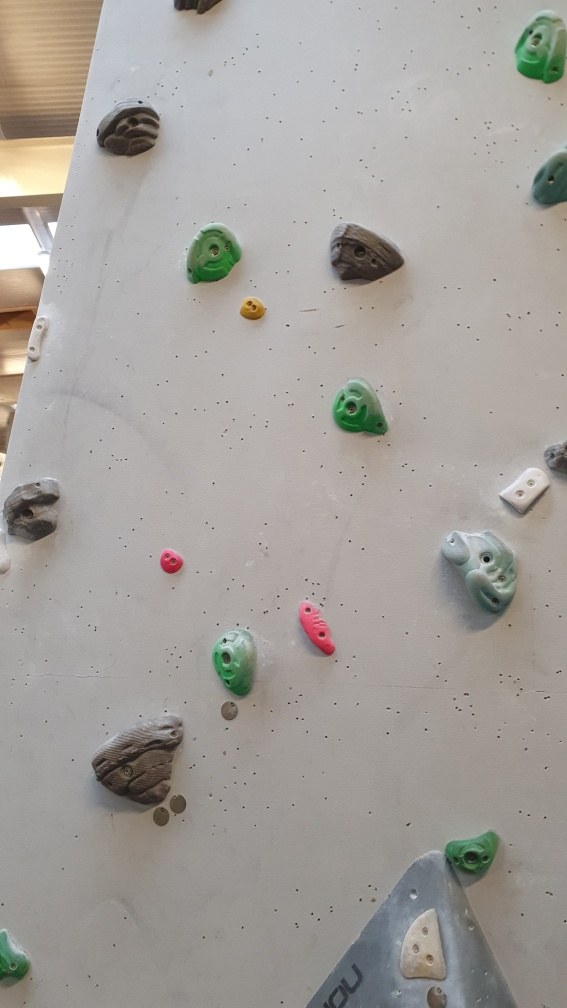Crimp: (396, 907, 451, 984), (499, 464, 551, 518), (300, 596, 336, 656), (25, 313, 48, 365)
Hand Start: (423, 984, 451, 1004), (152, 807, 176, 829), (217, 698, 240, 718), (170, 794, 190, 816)
Jug: (439, 525, 530, 621), (96, 712, 184, 801), (328, 217, 408, 285), (95, 97, 161, 162), (182, 219, 245, 287), (211, 628, 264, 702), (1, 478, 66, 538), (514, 9, 565, 82), (333, 378, 391, 439), (446, 831, 503, 880)
